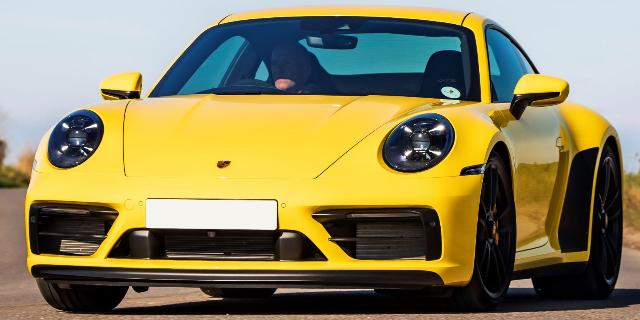porsche: (24, 7, 624, 312)
